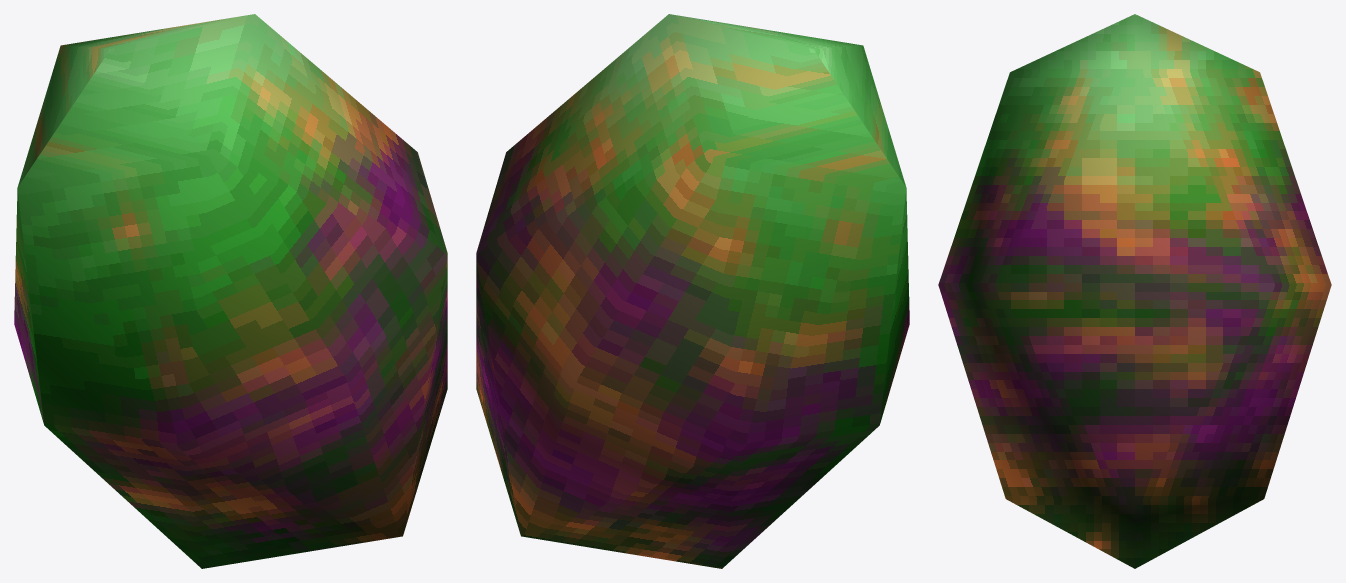
The model's file is GreenBean.fbx.
The picture shows the model from 3 angles, left to right: view 1: azimuth 30°, elevation 25°; view 2: azimuth 150°, elevation 25°; view 3: azimuth 270°, elevation 25°; orthographic projection. The views are drawn at different scales.
Parts seen in each view (by area): view 1: material_0; view 2: material_0; view 3: material_0.
Boxes of the visible parts, bbox=[...] form: material_0: bbox=[14, 14, 447, 568]; material_0: bbox=[476, 14, 909, 568]; material_0: bbox=[938, 14, 1331, 568].
Bounding box in the file's own units: 979 × 1200 × 938.
